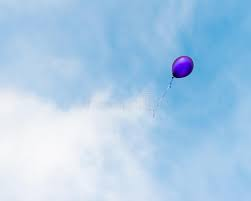Balloon: (172, 55, 193, 79)
